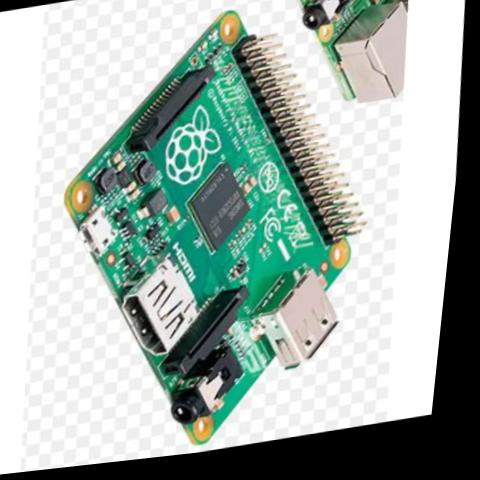Raspberry-Pi-1-Model-A-: (27, 0, 409, 474)
